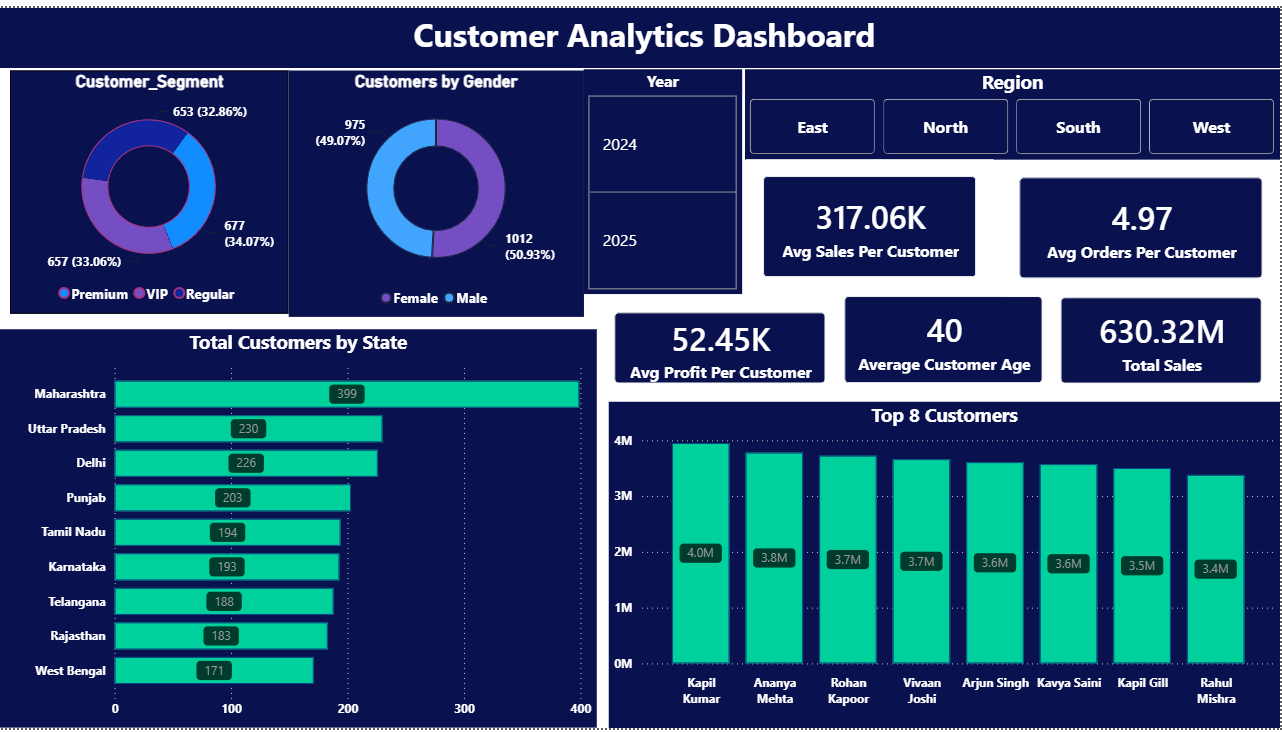

Layout of this report page (visuals, bound fields, positions):
{"tool":"powerbi","page":{"name":"Customer_behaviour","canvas":[1280,720],"ordinal":1},"visuals":[{"type":"textbox","box":[0,0,1280,60],"z":0},{"type":"cardVisual","fields":{"Data":["fact_sale.Total Customers"]},"box":[805,440,241.7,158.3],"z":1000},{"type":"donutChart","title":" Customer_Segment","fields":{"Category":["customer_table.Customer_Segment"],"Y":["fact_sale.Total Customers"]},"box":[10,62.9,278,243],"z":2000},{"type":"donutChart","title":"Customers by Gender","fields":{"Category":["customer_table.Gender"],"Y":["fact_sale.Total Customers"]},"box":[288.6,62.9,295,246],"z":3000},{"type":"clusteredBarChart","fields":{"Category":["customer_table.State"],"Y":["fact_sale.Total Customers"]},"box":[0,321.7,596.7,398.3],"z":4000},{"type":"clusteredColumnChart","title":"Top 8 Customers","fields":{"Category":["customer_table.Customer_Name"],"Y":["fact_sale.Total Sales"]},"box":[608.3,393.3,671.7,326.7],"z":5000},{"type":"advancedSlicerVisual","fields":{"Values":["customer_table.Region"]},"box":[745,61.7,535,90],"z":6000},{"type":"advancedSlicerVisual","fields":{"Values":["fact_sale.Order_Date.Variation.Date Hierarchy.Year"]},"box":[583.3,61.7,158.3,225],"z":8000},{"type":"cardVisual","fields":{"Data":["customer_table.Avg Profit Per Customer"]},"box":[597.1,287.1,245.7,105.7],"z":9000},{"type":"cardVisual","fields":{"Data":["customer_table.Avg Sales Per Customer"]},"box":[745.7,151.4,247.1,135.7],"z":10000},{"type":"cardVisual","fields":{"Data":["customer_table.Average Customer Age"]},"box":[827.1,271.4,232.9,121.4],"z":10001},{"type":"cardVisual","fields":{"Data":["customer_table.Avg Orders Per Customer"]},"box":[1002.9,152.9,277.1,135.7],"z":10002},{"type":"cardVisual","fields":{"Data":["fact_sale.Total Sales"]},"box":[1044.3,272.9,235.7,120],"z":10003}]}

Visuals, with their boxes in screenshot pixels (x1, y1, x2, y2), scaled from the page's 1280x720 canvas onto the 1282x732 screenshot:
textbox: Rect(0, 0, 1281, 61)
cardVisual - fact_sale.Total Customers: Rect(806, 447, 1048, 608)
" Customer_Segment" donutChart: Rect(10, 64, 288, 311)
"Customers by Gender" donutChart: Rect(289, 64, 585, 314)
clusteredBarChart - customer_table.State x fact_sale.Total Customers: Rect(0, 327, 598, 731)
"Top 8 Customers" clusteredColumnChart: Rect(609, 400, 1281, 731)
advancedSlicerVisual - customer_table.Region: Rect(746, 63, 1281, 154)
advancedSlicerVisual - fact_sale.Order_Date.Variation.Date Hierarchy.Year: Rect(584, 63, 743, 291)
cardVisual - customer_table.Avg Profit Per Customer: Rect(598, 292, 844, 399)
cardVisual - customer_table.Avg Sales Per Customer: Rect(747, 154, 994, 292)
cardVisual - customer_table.Average Customer Age: Rect(828, 276, 1062, 399)
cardVisual - customer_table.Avg Orders Per Customer: Rect(1004, 155, 1281, 293)
cardVisual - fact_sale.Total Sales: Rect(1046, 277, 1281, 399)
